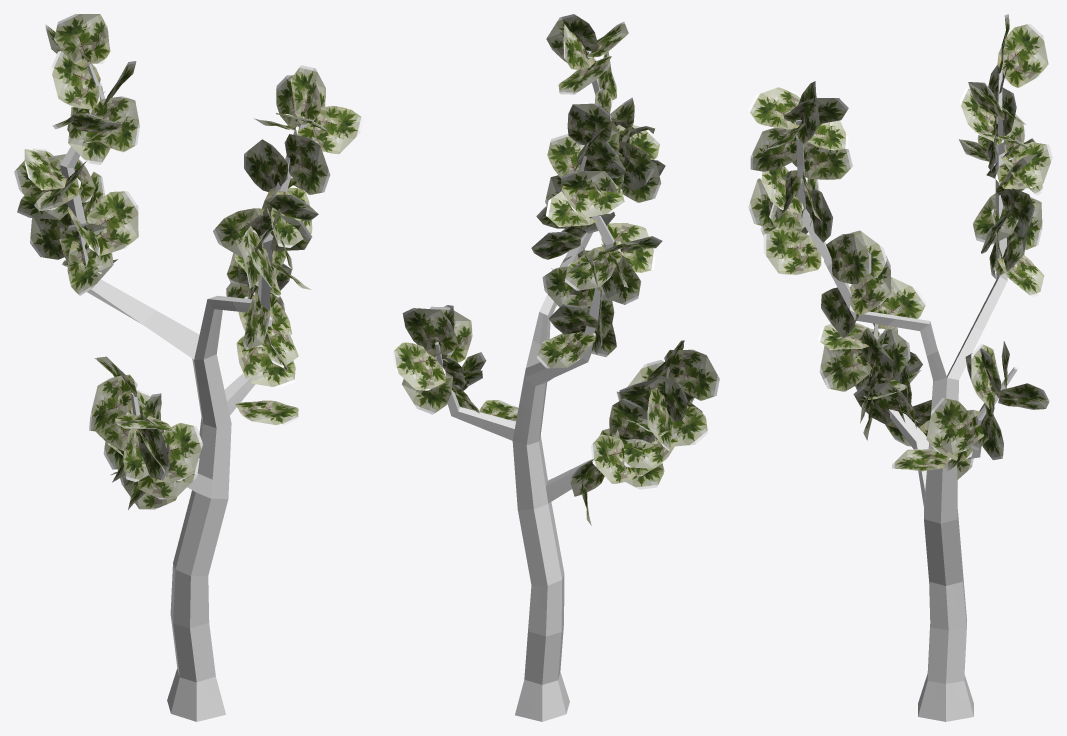
The model's file is Tree_Test3 (1).fbx.
The picture shows the model from 3 angles, left to right: view 1: azimuth 30°, elevation 25°; view 2: azimuth 150°, elevation 25°; view 3: azimuth 270°, elevation 25°; orthographic projection. The views are drawn at different scales.
Visible parts, largest first — view 1: STRONK, STRONK|BLAADJE|Dupli|59, STRONK|BLAADJE|Dupli|45, STRONK|BLAADJE|Dupli|3, STRONK|BLAADJE|Dupli|47, STRONK|BLAADJE|Dupli|70, STRONK|BLAADJE|Dupli|12, STRONK|BLAADJE|Dupli|14, STRONK|BLAADJE|Dupli|43, STRONK|BLAADJE|Dupli|22, STRONK|BLAADJE|Dupli|72, STRONK|BLAADJE|Dupli|53 (+22 smaller); view 2: STRONK, STRONK|BLAADJE|Dupli|14, STRONK|BLAADJE|Dupli|16, STRONK|BLAADJE|Dupli|21, STRONK|BLAADJE|Dupli|45, STRONK|BLAADJE|Dupli|58, STRONK|BLAADJE|Dupli|48, STRONK|BLAADJE|Dupli|39, STRONK|BLAADJE|Dupli|46, STRONK|BLAADJE|Dupli|38, STRONK|BLAADJE|Dupli|6, STRONK|BLAADJE|Dupli|63 (+25 smaller); view 3: STRONK, STRONK|BLAADJE|Dupli|9, STRONK|BLAADJE|Dupli|1, STRONK|BLAADJE|Dupli|66, STRONK|BLAADJE|Dupli|56, STRONK|BLAADJE|Dupli|60, STRONK|BLAADJE|Dupli|70, STRONK|BLAADJE|Dupli|72, STRONK|BLAADJE|Dupli|23, STRONK|BLAADJE|Dupli|27, STRONK|BLAADJE|Dupli|35, STRONK|BLAADJE|Dupli|67 (+30 smaller).
Boxes of the visible parts, bbox=[...] form: STRONK: bbox=[60, 62, 306, 721]; STRONK|BLAADJE|Dupli|59: bbox=[87, 191, 138, 255]; STRONK|BLAADJE|Dupli|45: bbox=[54, 14, 110, 67]; STRONK|BLAADJE|Dupli|3: bbox=[296, 106, 363, 154]; STRONK|BLAADJE|Dupli|47: bbox=[50, 51, 100, 109]; STRONK|BLAADJE|Dupli|70: bbox=[284, 134, 330, 194]; STRONK|BLAADJE|Dupli|12: bbox=[149, 422, 202, 482]; STRONK|BLAADJE|Dupli|14: bbox=[89, 374, 137, 431]; STRONK|BLAADJE|Dupli|43: bbox=[89, 96, 139, 152]; STRONK|BLAADJE|Dupli|22: bbox=[236, 334, 295, 387]; STRONK|BLAADJE|Dupli|72: bbox=[244, 139, 287, 191]; STRONK|BLAADJE|Dupli|53: bbox=[67, 241, 113, 295]; STRONK: bbox=[435, 50, 669, 721]; STRONK|BLAADJE|Dupli|14: bbox=[664, 349, 719, 400]; STRONK|BLAADJE|Dupli|16: bbox=[402, 308, 458, 357]; STRONK|BLAADJE|Dupli|21: bbox=[392, 342, 445, 390]; STRONK|BLAADJE|Dupli|45: bbox=[567, 103, 611, 145]; STRONK|BLAADJE|Dupli|58: bbox=[537, 332, 595, 368]; STRONK|BLAADJE|Dupli|48: bbox=[564, 246, 622, 290]; STRONK|BLAADJE|Dupli|39: bbox=[591, 434, 635, 483]; STRONK|BLAADJE|Dupli|46: bbox=[562, 183, 624, 218]; STRONK|BLAADJE|Dupli|38: bbox=[609, 398, 655, 443]; STRONK|BLAADJE|Dupli|6: bbox=[599, 223, 655, 273]; STRONK|BLAADJE|Dupli|63: bbox=[546, 14, 597, 62]; STRONK: bbox=[795, 67, 1017, 721]; STRONK|BLAADJE|Dupli|9: bbox=[997, 23, 1048, 87]; STRONK|BLAADJE|Dupli|1: bbox=[763, 228, 823, 275]; STRONK|BLAADJE|Dupli|66: bbox=[826, 233, 871, 283]; STRONK|BLAADJE|Dupli|56: bbox=[995, 142, 1052, 189]; STRONK|BLAADJE|Dupli|60: bbox=[748, 87, 800, 129]; STRONK|BLAADJE|Dupli|70: bbox=[750, 127, 803, 171]; STRONK|BLAADJE|Dupli|72: bbox=[792, 142, 852, 179]; STRONK|BLAADJE|Dupli|23: bbox=[926, 398, 973, 461]; STRONK|BLAADJE|Dupli|27: bbox=[869, 277, 926, 329]; STRONK|BLAADJE|Dupli|35: bbox=[853, 382, 914, 428]; STRONK|BLAADJE|Dupli|67: bbox=[849, 255, 891, 315].
Bounding box in the file's own units: 15.97 × 39.4 × 16.64.
Materials: 1 (1 with a texture image).
